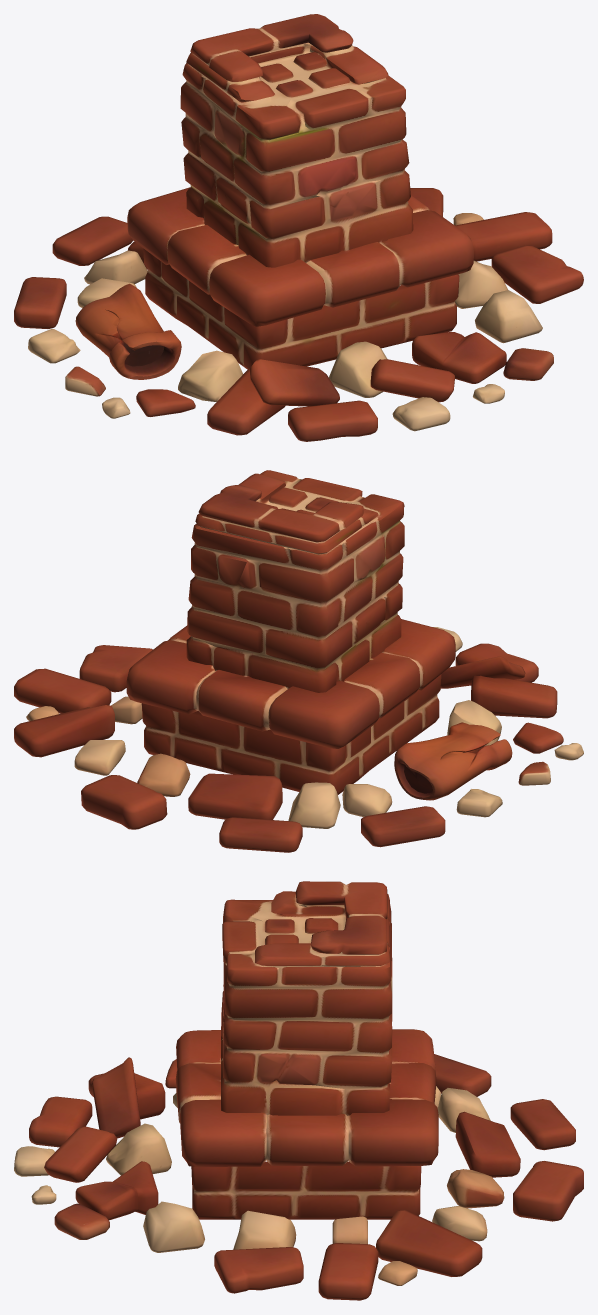
File: boss_chimney_broken_v2.glb
3 renders of one model, top to bottom at view 1: azimuth 30°, elevation 25°; view 2: azimuth 150°, elevation 25°; view 3: azimuth 270°, elevation 25°, orthographic. The views are drawn at different scales.
Visible parts, largest first — view 1: boss_chimney_broken; view 2: boss_chimney_broken; view 3: boss_chimney_broken.
Part boxes in pixels (x1,y1,x2,y2): boss_chimney_broken: (14,14,583,441); boss_chimney_broken: (14,470,583,852); boss_chimney_broken: (14,881,583,1300).
Bounding box in the file's own units: 4.99 × 2.45 × 4.81.
Materials: 1 (1 with a texture image).
